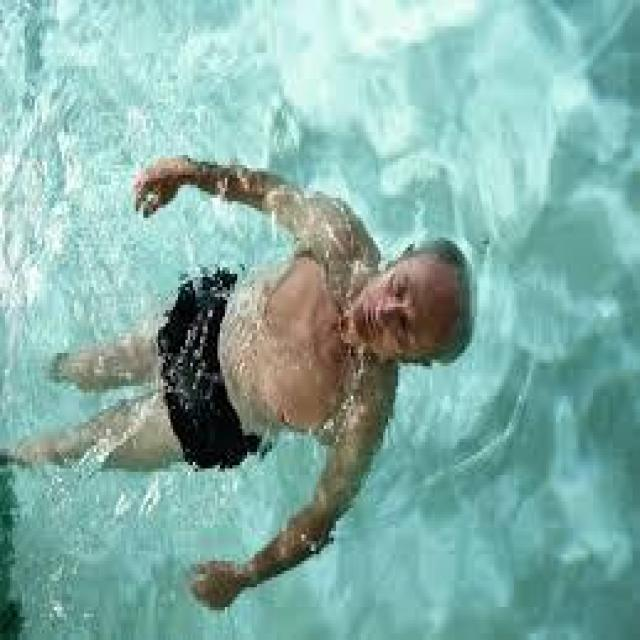Drowning: (126, 84, 479, 550)
